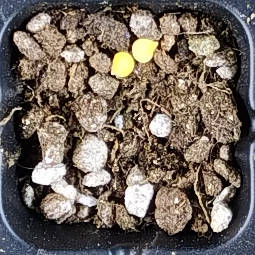chilli seed: (131, 37, 158, 63), (110, 52, 134, 78)
